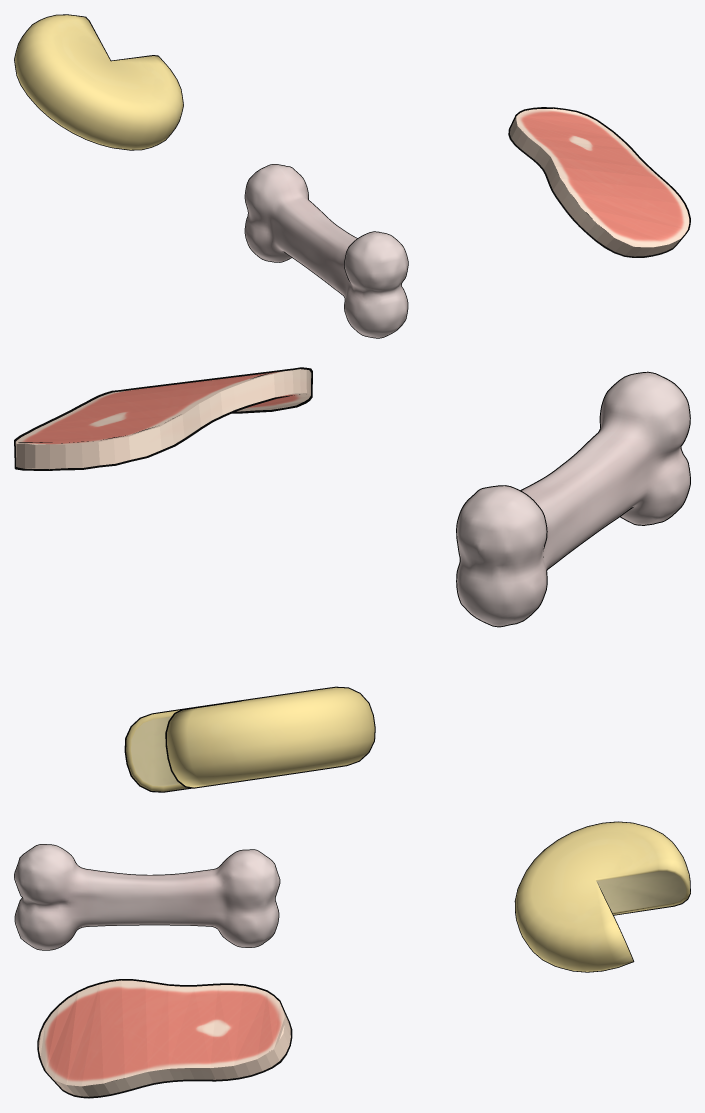
The model's file is treats.glb.
3 views of the same model, one above another, from view 1: azimuth 30°, elevation 25°; view 2: azimuth 150°, elevation 25°; view 3: azimuth 270°, elevation 25° (orthographic). The views are drawn at different scales.
Parts seen in each view (by area): view 1: steak, cheese, bone; view 2: bone, cheese, steak; view 3: steak, bone, cheese.
Part boxes in pixels (<box>): steak: <box>508,107,690,257</box>; cheese: <box>14,14,183,150</box>; bone: <box>244,164,408,338</box>; bone: <box>456,371,690,627</box>; cheese: <box>124,686,375,792</box>; steak: <box>14,367,312,470</box>; steak: <box>37,979,292,1098</box>; bone: <box>14,844,280,950</box>; cheese: <box>514,821,690,972</box>.
Size of the model in its own units: 14.39 by 3.4 by 20.3.
Materials: 3 (3 with a texture image).
